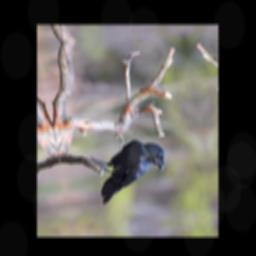Crow: (88, 135, 173, 206)
